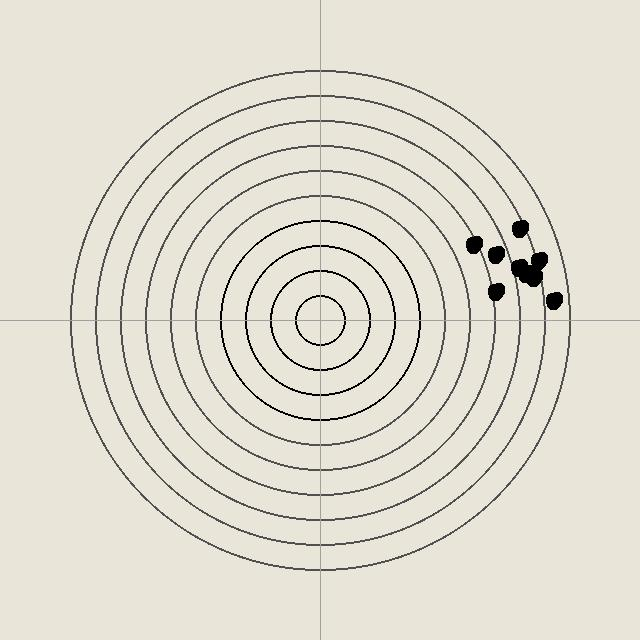good_group: (528, 250, 548, 270), (463, 234, 483, 254), (523, 267, 543, 287), (508, 257, 528, 277), (515, 263, 535, 283), (485, 281, 505, 301), (543, 290, 563, 310), (509, 218, 529, 238), (485, 244, 505, 264)
